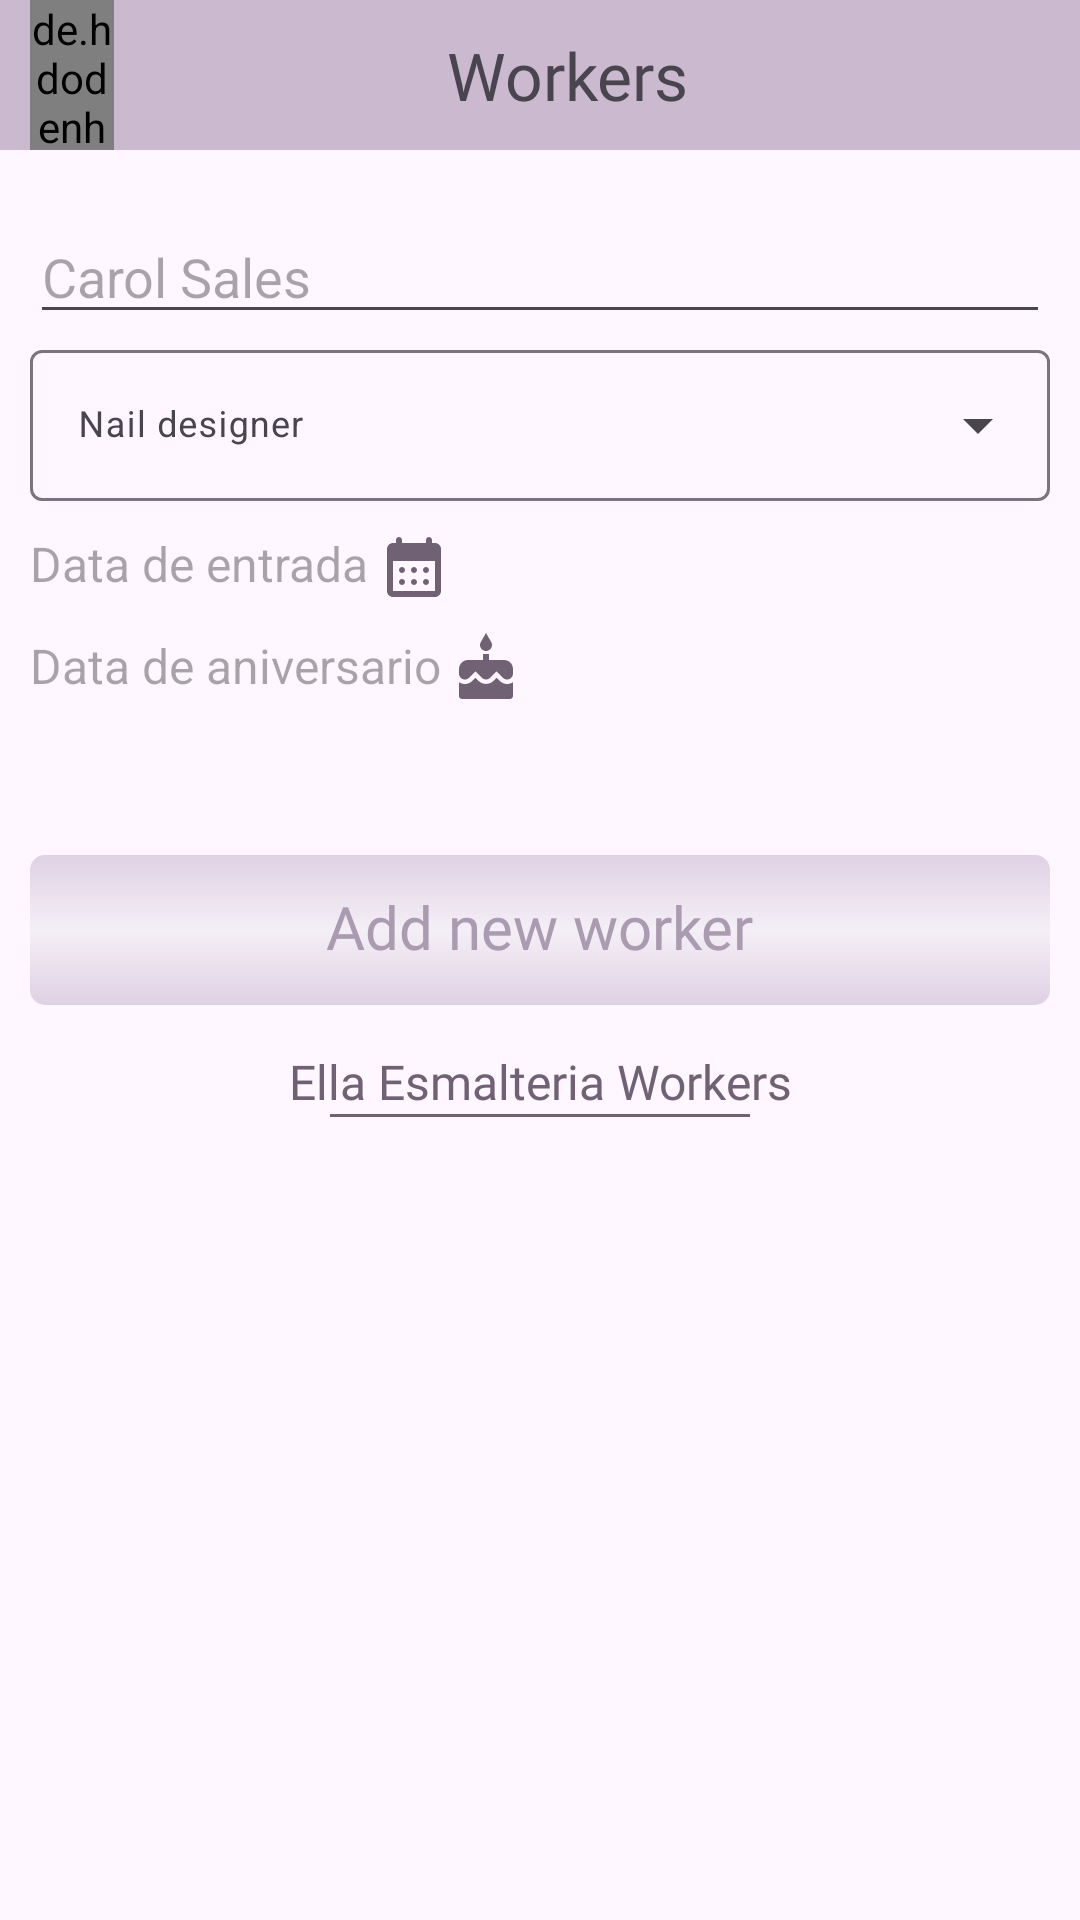

Icon bounding boxes for this 1080w x 1920h phone screenshot, format (x1, y1, x2, y2):
cake: (459, 633, 513, 699)
calendar month: (387, 537, 441, 597)
